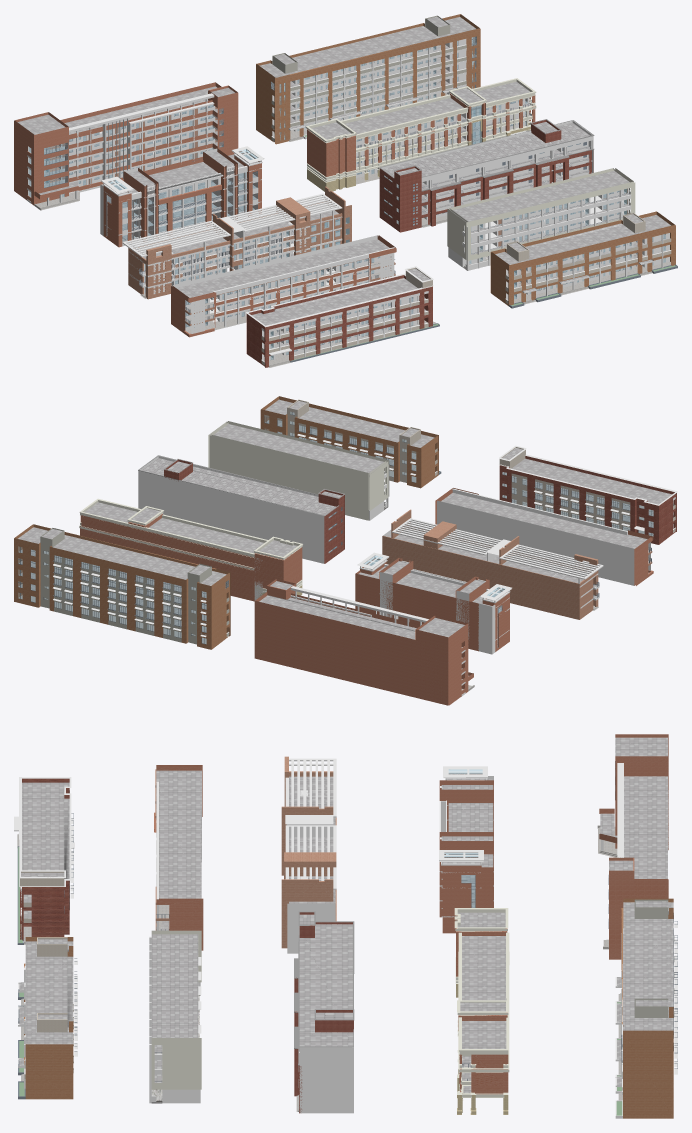
The model's file is teachBuilding.glb.
3 renders of one model, top to bottom at view 1: azimuth 30°, elevation 25°; view 2: azimuth 150°, elevation 25°; view 3: azimuth 270°, elevation 25°, orthographic. The views are drawn at different scales.
Visible parts, largest first — view 1: FLOOR_04, FLOOR_03, FLOOR_02, FLOOR_05, FLOOR_06, FLOOR_01; view 2: FLOOR_04, FLOOR_03, FLOOR_02, FLOOR_05, FLOOR_06, FLOOR_01; view 3: FLOOR_04, FLOOR_05, FLOOR_06, FLOOR_03, FLOOR_02, FLOOR_01.
Part boxes in pixels (x1,y1,x2,y2): FLOOR_04: (14,14,675,342); FLOOR_03: (27,37,671,350); FLOOR_02: (27,72,675,367); FLOOR_05: (27,36,642,288); FLOOR_06: (17,16,561,175); FLOOR_01: (27,84,677,367); FLOOR_04: (14,396,677,705); FLOOR_03: (18,408,675,705); FLOOR_02: (18,417,676,685); FLOOR_05: (19,401,526,653); FLOOR_06: (18,459,464,639); FLOOR_01: (18,470,675,696); FLOOR_04: (19,734,677,1118); FLOOR_05: (19,761,677,1049); FLOOR_06: (298,737,673,1030); FLOOR_03: (21,756,677,1103); FLOOR_02: (14,765,677,1114); FLOOR_01: (17,812,622,1118).
Bounding box in the file's own units: 125 × 18.69 × 116.
16 materials, 8 textured.
